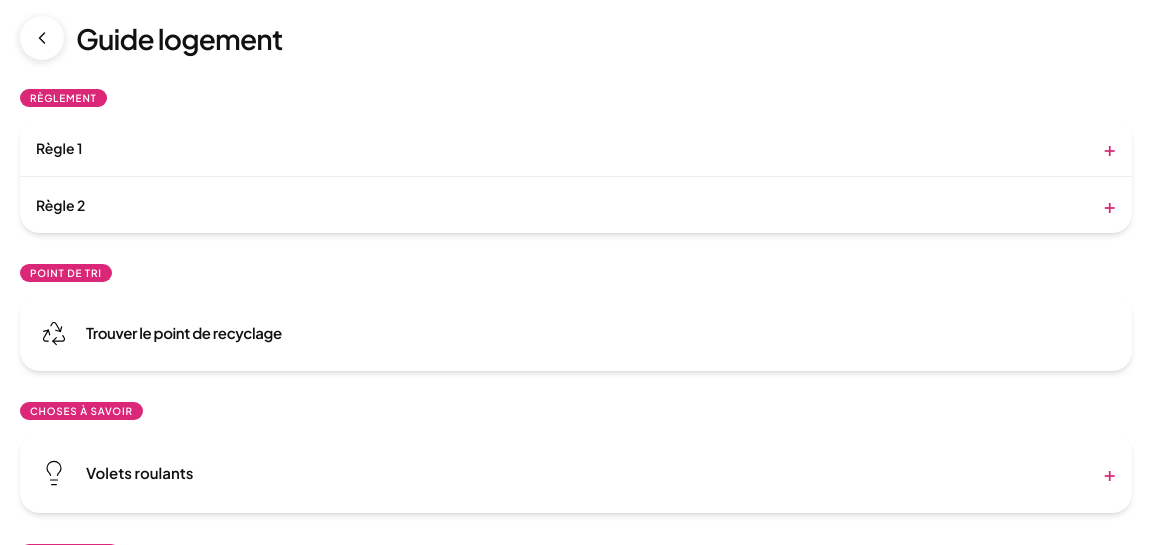
Scenario: 099 US-02 — Choses à savoir › AC-02-02 : accordion fermé (ampoule + titre, sans photo), déplié au toucher du titre
The width and height of the screenshot is (1152, 545).
Expected: the icon with class "lucide-lightbulb" is shown, [40, 459, 68, 487]
Expected: the text "La télécommande est sur la cheminée." is not shown
Click the button "Volets roulants +": (140, 472) [86, 445, 1116, 501]
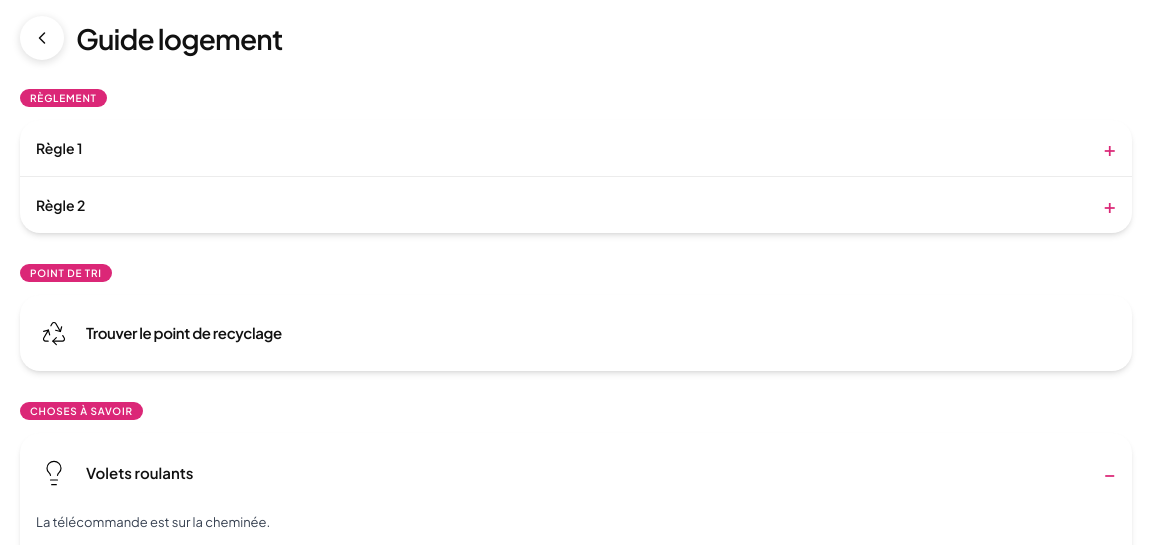
Expected: the button "Volets roulants −" is expanded
Expected: the text "La télécommande est sur la cheminée." is shown, [36, 514, 270, 530]
Click the button "Volets roulants −": (140, 472) [86, 445, 1116, 501]
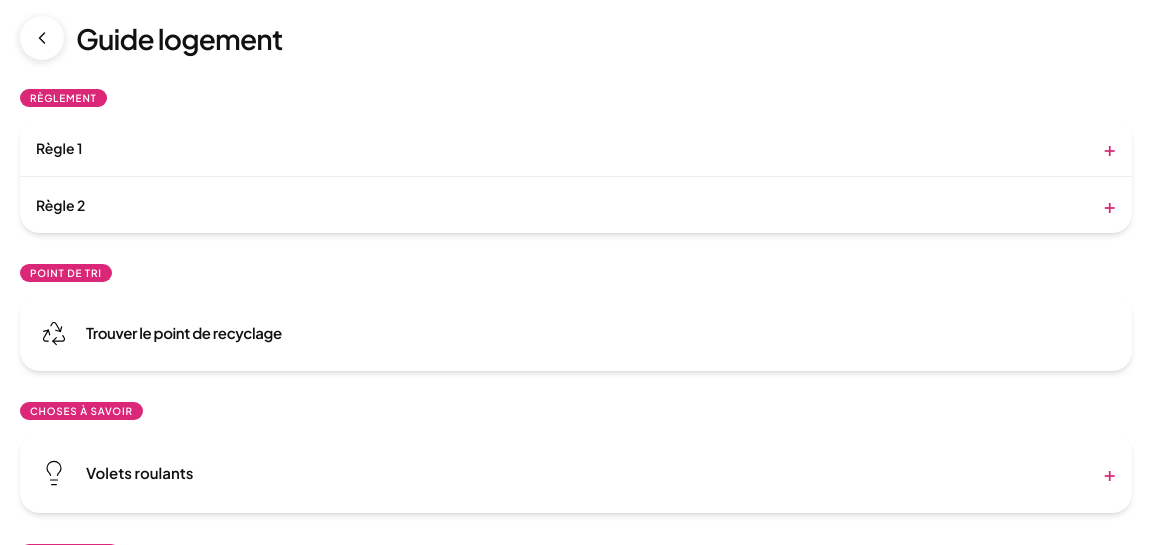
Expected: the text "La télécommande est sur la cheminée." is gone
